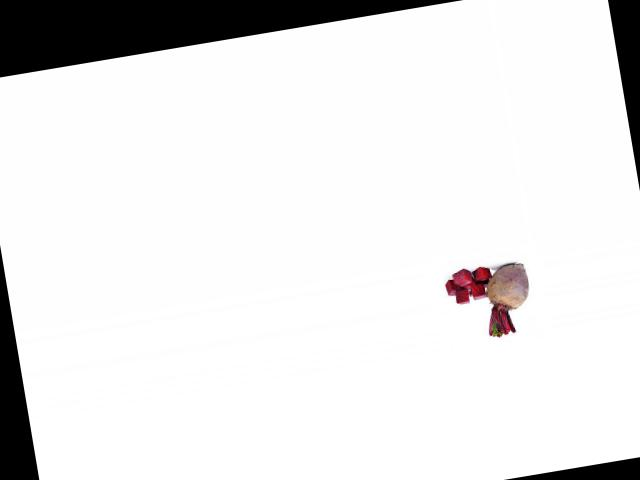beet: (477, 261, 536, 337)
